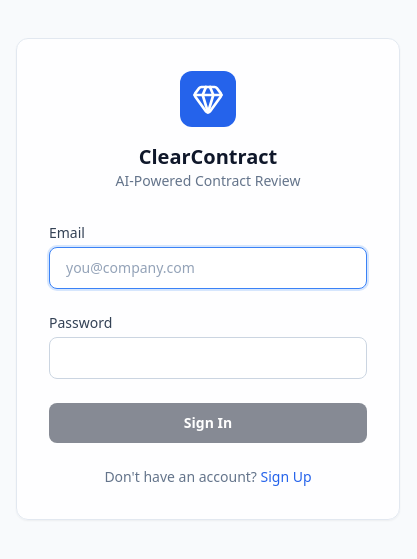
Test: LoginPage › clears error when user types in email field
This screenshot has width=417, height=559.
In the field labelled "Email": [208, 268] box [49,247,367,289], type "test@example.com"
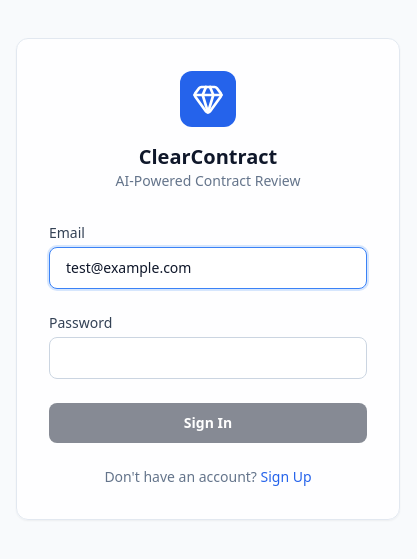
In the password field labelled "Password": [208, 358] box [49,337,367,379], type "wrong"
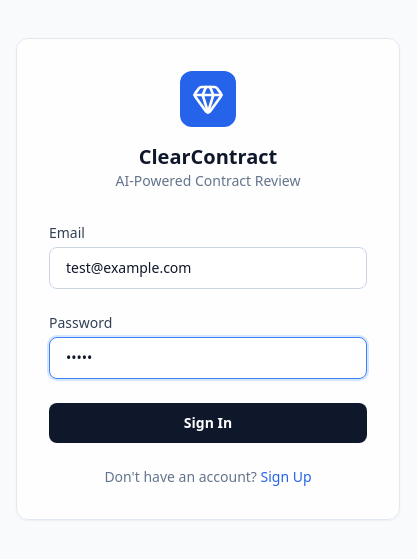
Click the button "Sign In": [208, 423] box [49,403,367,443]
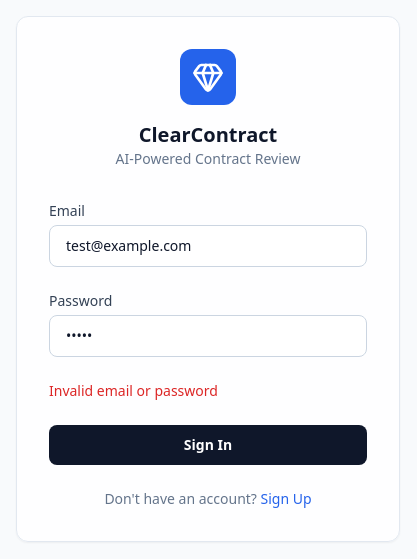
Expected: the message "Invalid email or password" is shown, [49,381,218,400]
In the field labelled "Email": [208, 246] box [49,225,367,267], type "x"
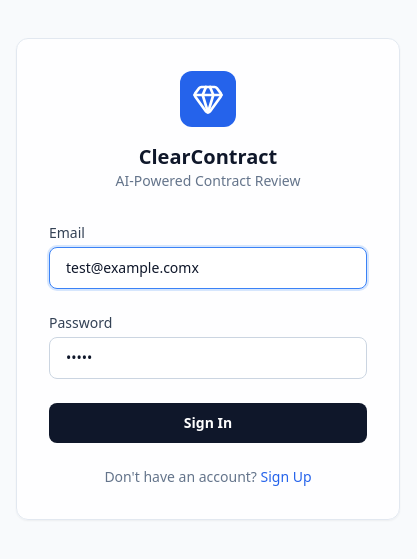
Expected: the message "Invalid email or password" is gone
